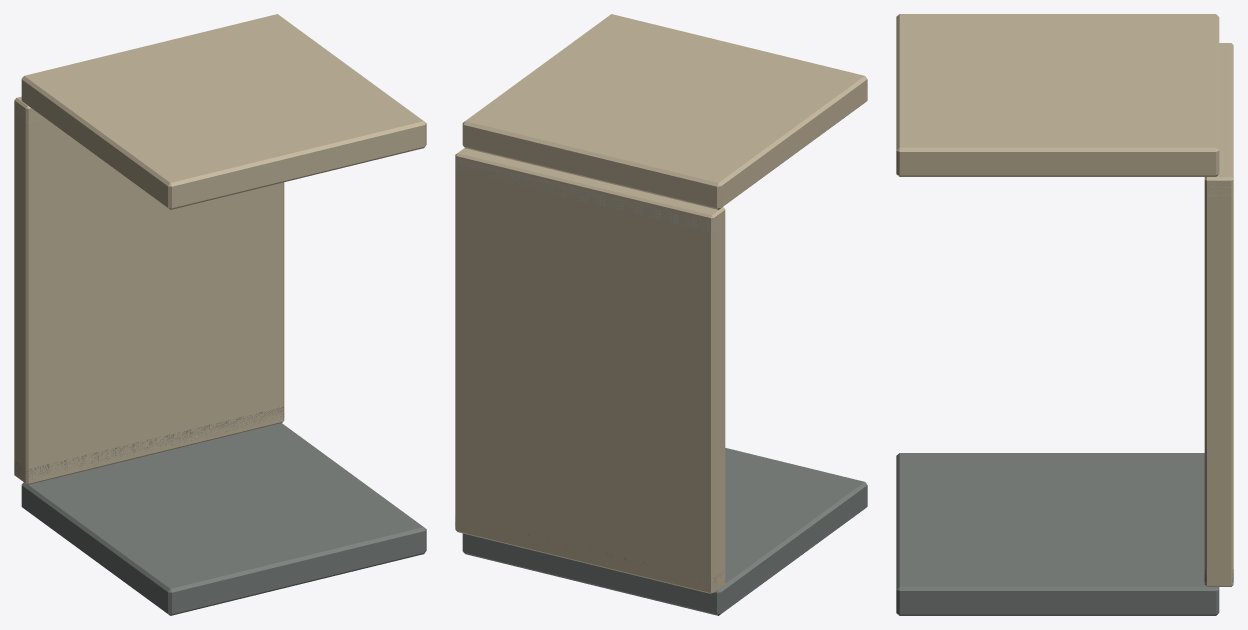
File: architecture-corridor-tee.lod0.glb
The picture shows the model from 3 angles, left to right: view 1: azimuth 30°, elevation 25°; view 2: azimuth 150°, elevation 25°; view 3: azimuth 270°, elevation 25°; orthographic projection. The views are drawn at different scales.
Parts seen in each view (by area): view 1: architecture-corridor-tee__body; view 2: architecture-corridor-tee__body; view 3: architecture-corridor-tee__body.
Part boxes in pixels (x1,y1,x2,y2): architecture-corridor-tee__body: (14, 14, 426, 615); architecture-corridor-tee__body: (455, 14, 867, 615); architecture-corridor-tee__body: (896, 14, 1233, 615).
Size of the model in its own units: 2 by 3.2 by 2.09.
